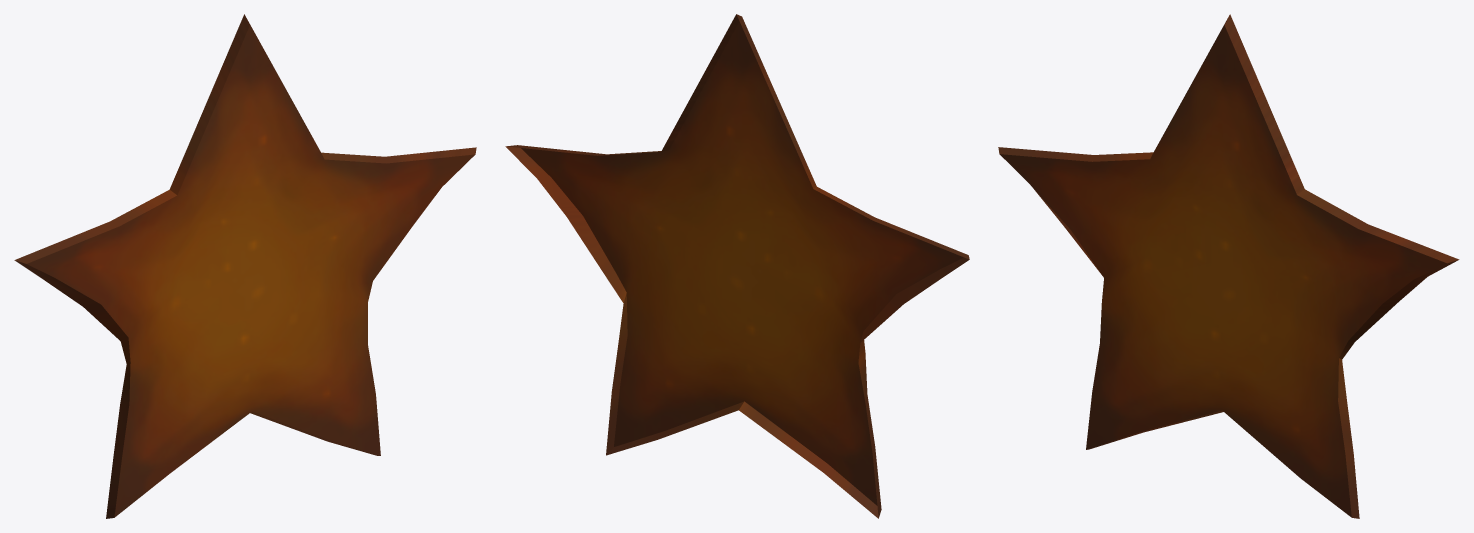
The model's file is CardboardCutout_Star_Orange_Scaled.fbx.
The picture shows the model from 3 angles, left to right: view 1: azimuth 30°, elevation 25°; view 2: azimuth 150°, elevation 25°; view 3: azimuth 330°, elevation 25°; orthographic projection.
Visible parts, largest first — view 1: Star5; view 2: Star5; view 3: Star5.
Boxes of the visible parts, left/top/right/bottom form: Star5: left=14, top=14, right=476, bottom=518; Star5: left=505, top=14, right=969, bottom=518; Star5: left=998, top=14, right=1459, bottom=518.
Size of the model in its own units: 126 by 123 by 4.12.
